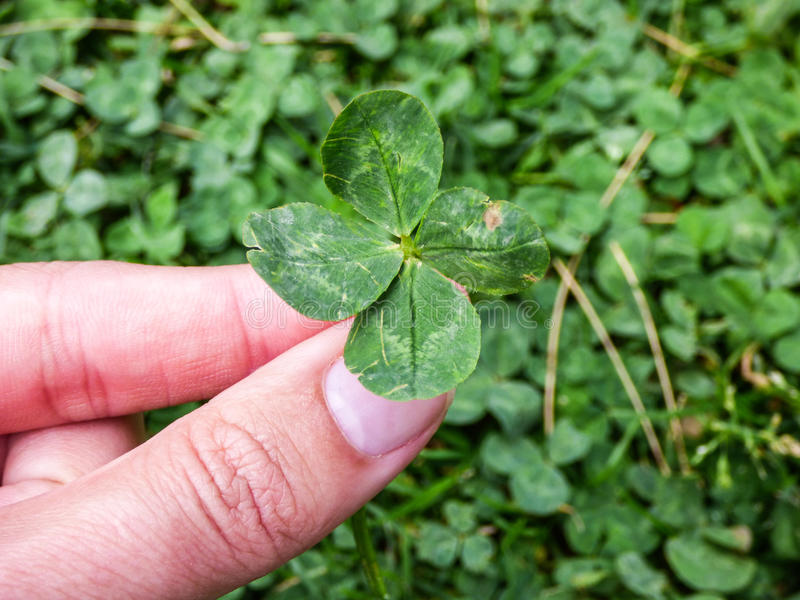4-clover: (253, 89, 549, 391)
